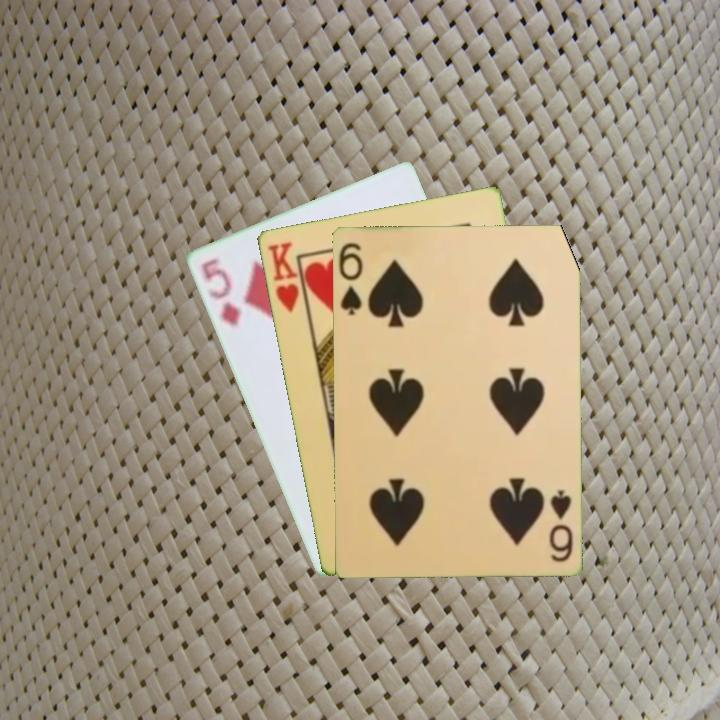5d: (197, 254, 243, 329)
6s: (335, 239, 365, 318), (545, 486, 575, 564)
Kh: (263, 238, 310, 318)
